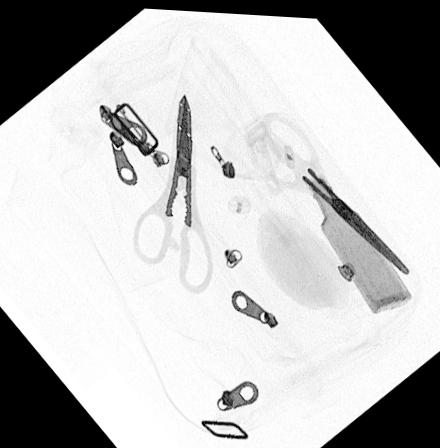Scissors: (241, 103, 412, 277), (128, 86, 217, 294)
